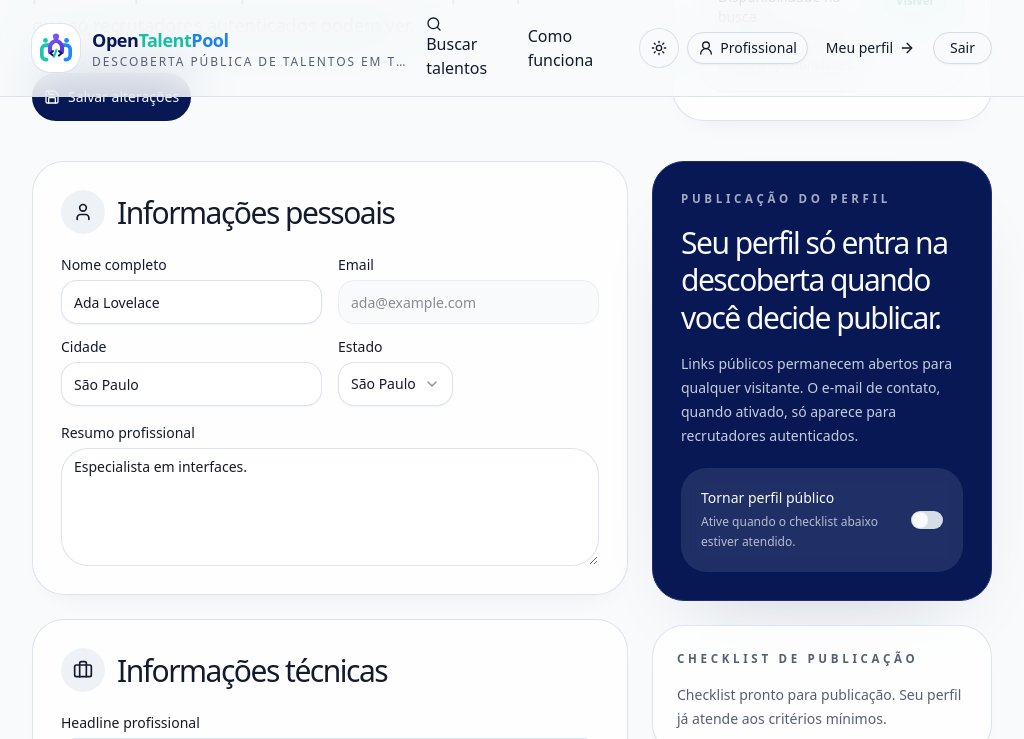
Test: Dashboard › remove o rascunho local quando o estado volta ao baseline do backend
(page scrolled)
Replace the text in the field labelled "Cidade" with "Recife" at coordinates (192, 384), box x1=61 y1=362 x2=322 y2=406
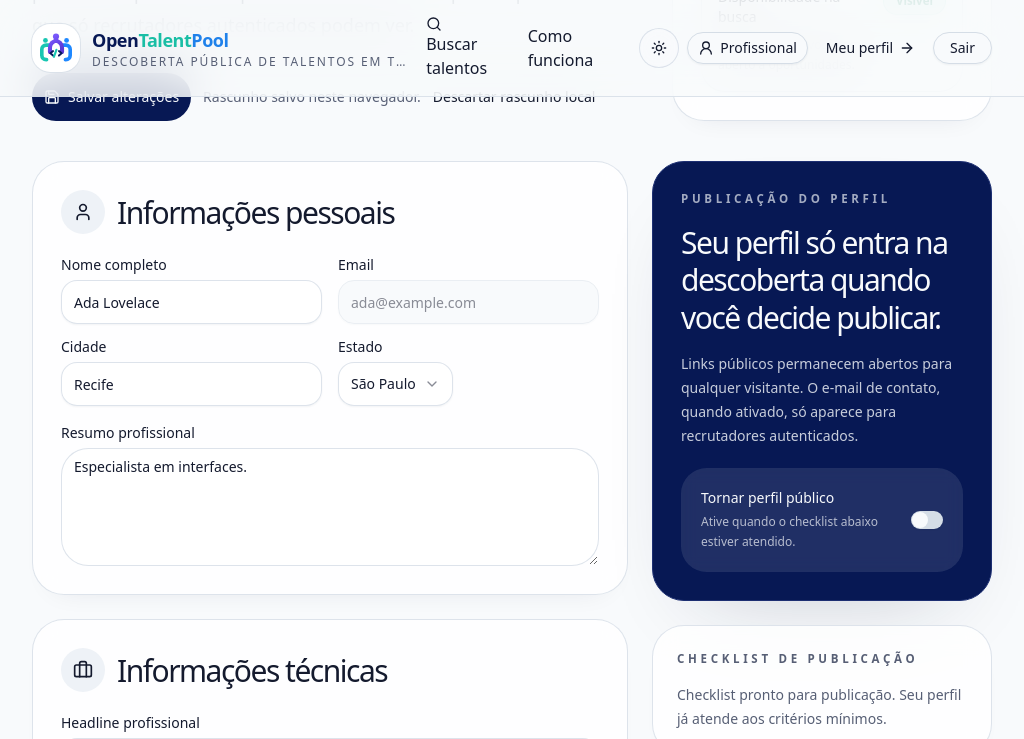
Replace the text in the field labelled "Cidade" with "São Paulo" at coordinates (192, 384), box x1=61 y1=362 x2=322 y2=406
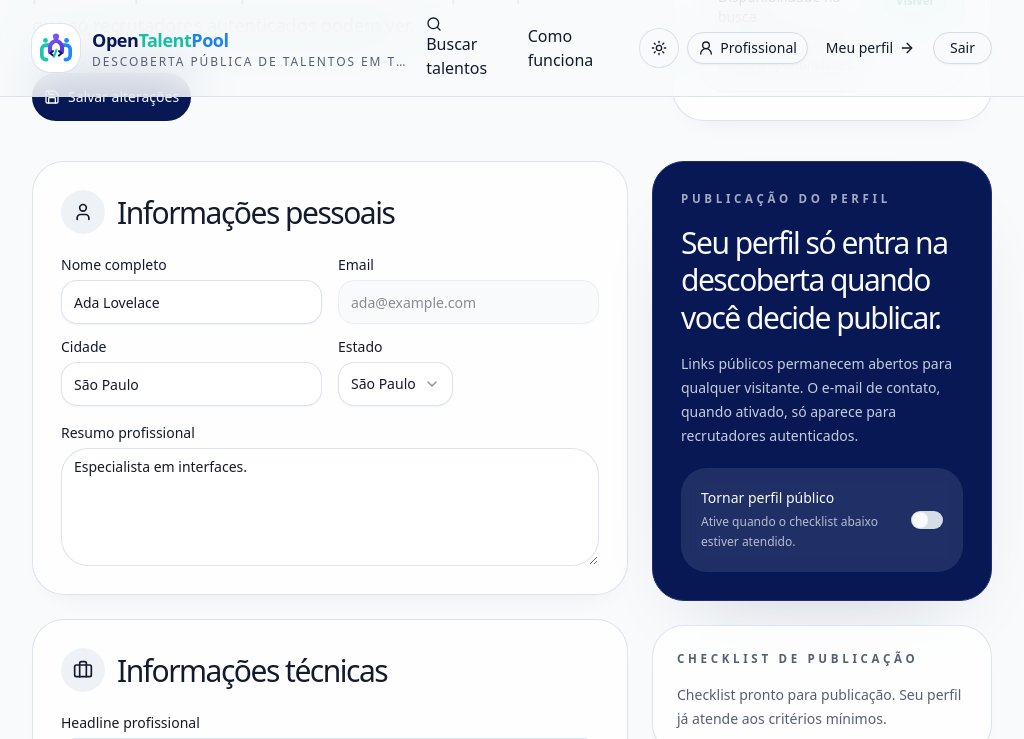
Expected: the text "Rascunho salvo neste navegador" is gone
